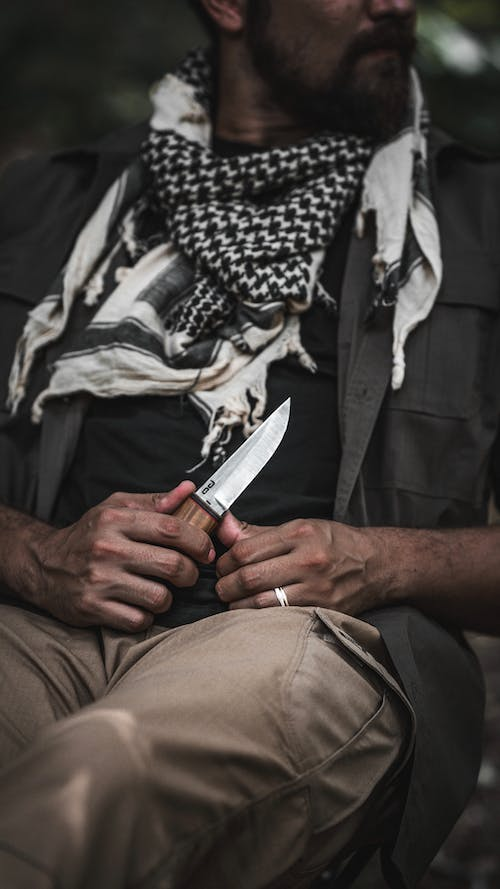knife: (169, 392, 294, 537)
